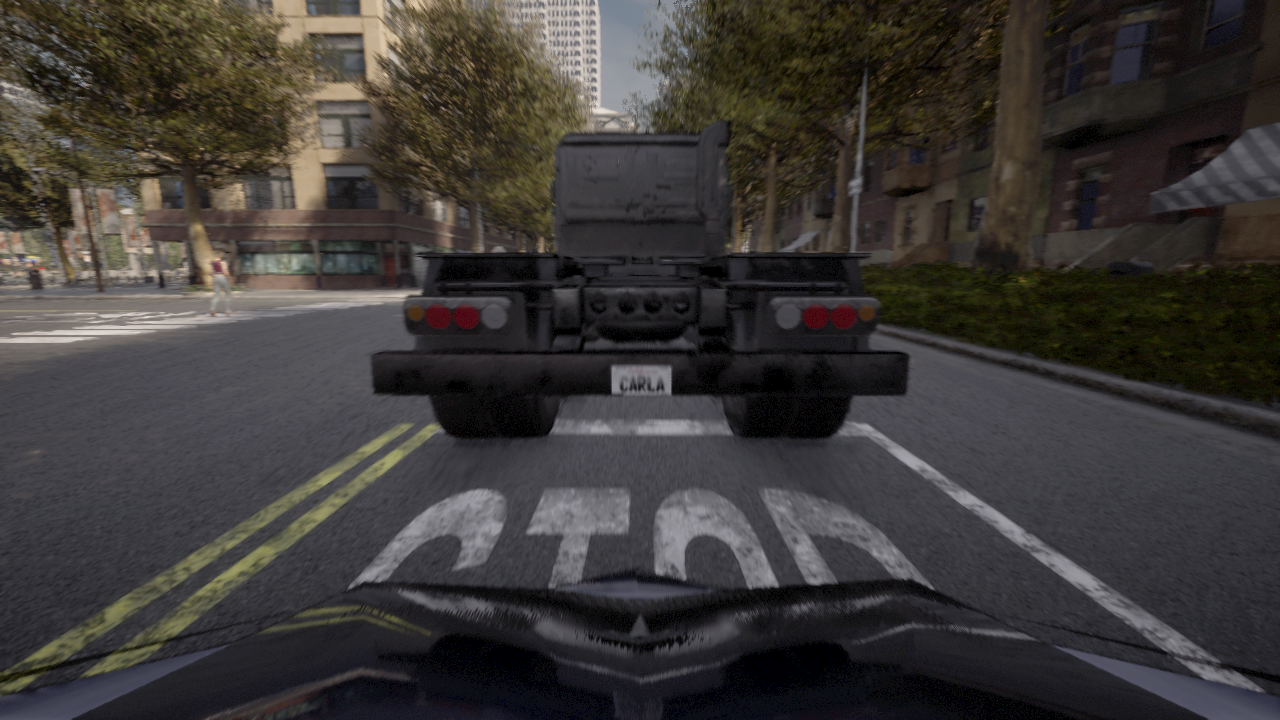cyclist: (0, 569, 1279, 719), (369, 119, 910, 437)
pedestrian: (209, 250, 235, 315)
